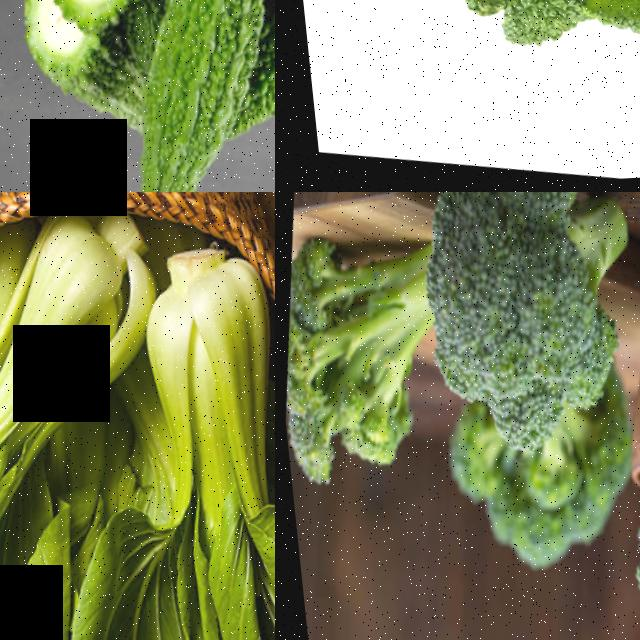bitter gourd: (117, 0, 263, 192), (26, 27, 139, 124)
bok choy: (98, 247, 275, 640), (0, 192, 165, 505)
broccoli: (387, 192, 640, 475), (275, 201, 457, 485), (586, 473, 640, 640)
cabbage: (346, 0, 640, 104)
